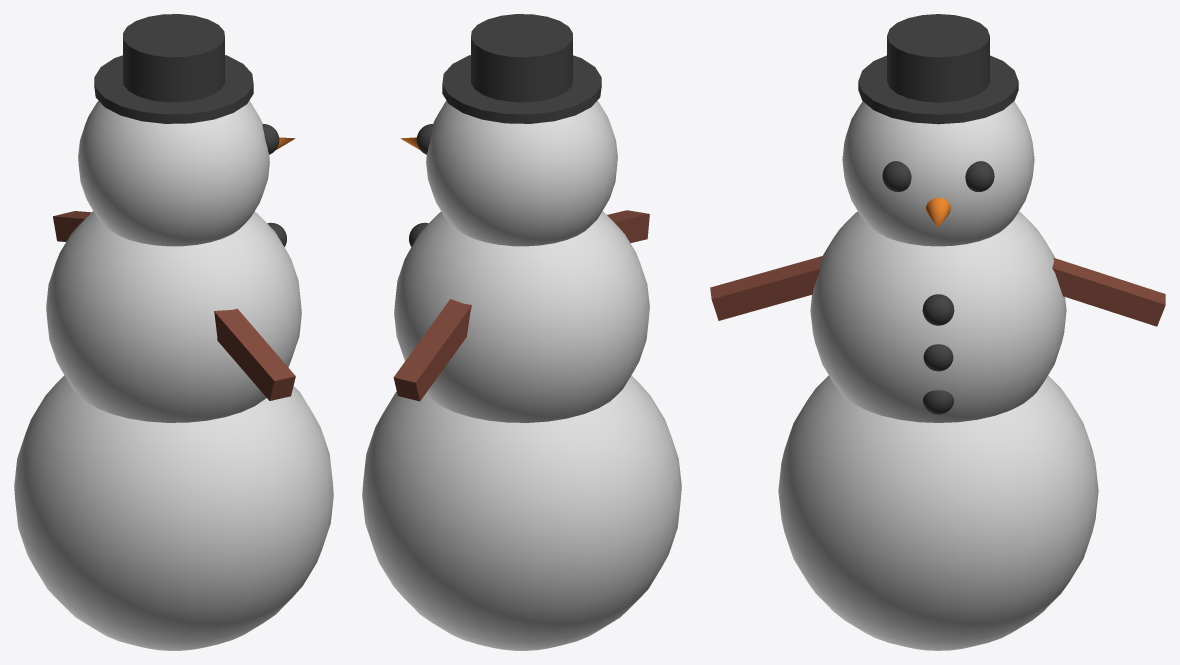
The model's file is snowman.fbx.
3 views of the same model, side by side, from view 1: azimuth 30°, elevation 25°; view 2: azimuth 150°, elevation 25°; view 3: azimuth 270°, elevation 25° (orthographic).
Visible parts, largest first — view 1: Sphere, Sphere.001, Sphere.002, Circle, Cube.001, Cube; view 2: Sphere, Sphere.001, Sphere.002, Circle, Cube, Cube.001; view 3: Sphere, Sphere.001, Sphere.002, Circle, Cube, Cube.001, Sphere.003, Sphere.004, Sphere.005, Sphere.006.
Part boxes in pixels (x1,y1,x2,y2): Sphere: [14, 375, 333, 650]; Sphere.001: [46, 211, 301, 422]; Sphere.002: [78, 100, 269, 246]; Circle: [94, 14, 253, 123]; Cube.001: [214, 308, 295, 400]; Cube: [53, 211, 91, 241]; Sphere: [362, 375, 681, 650]; Sphere.001: [394, 211, 649, 422]; Sphere.002: [426, 100, 617, 246]; Circle: [442, 14, 601, 123]; Cube: [393, 299, 471, 401]; Cube.001: [607, 210, 649, 243]; Sphere: [778, 375, 1098, 650]; Sphere.001: [810, 211, 1066, 422]; Sphere.002: [842, 101, 1034, 246]; Circle: [858, 14, 1018, 124]; Cube: [1052, 257, 1165, 326]; Cube.001: [710, 256, 822, 320]; Sphere.003: [922, 294, 954, 325]; Sphere.004: [965, 161, 994, 191]; Sphere.005: [882, 161, 911, 191]; Sphere.006: [923, 344, 953, 371].
Size of the model in its own units: 200 by 414 by 285.
